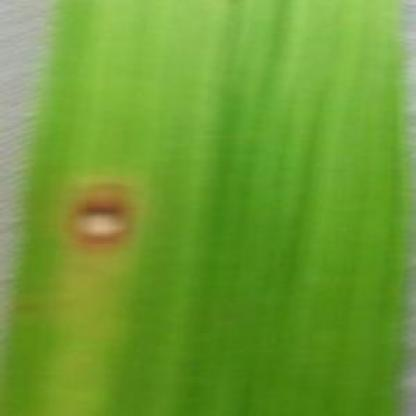Rice blast: (65, 173, 149, 273)
